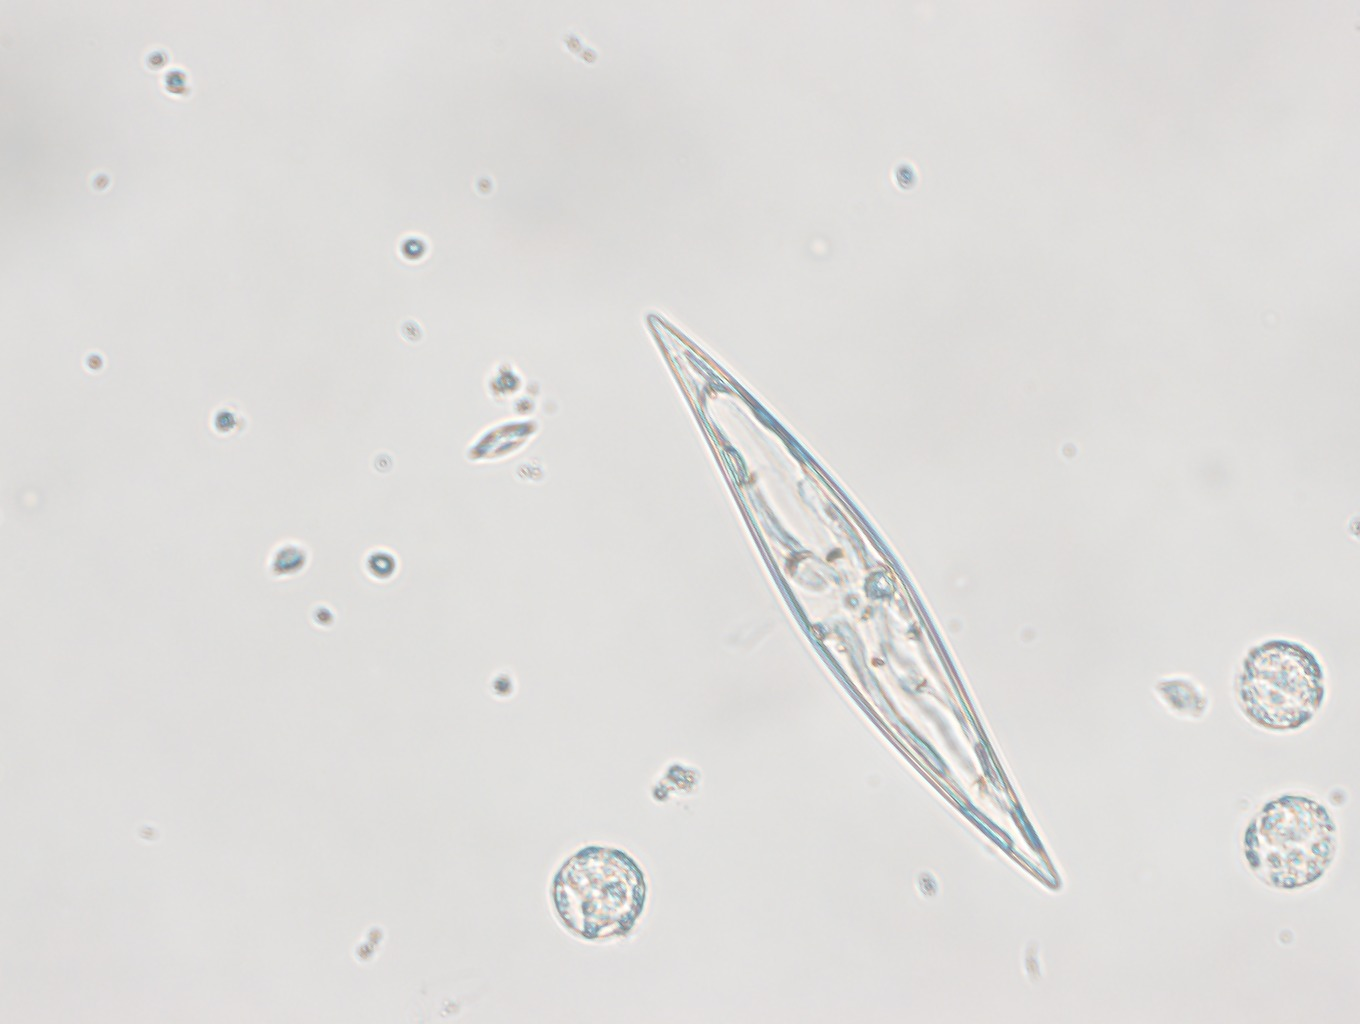pleurosigma pelagicum: (643, 311, 1062, 895)
